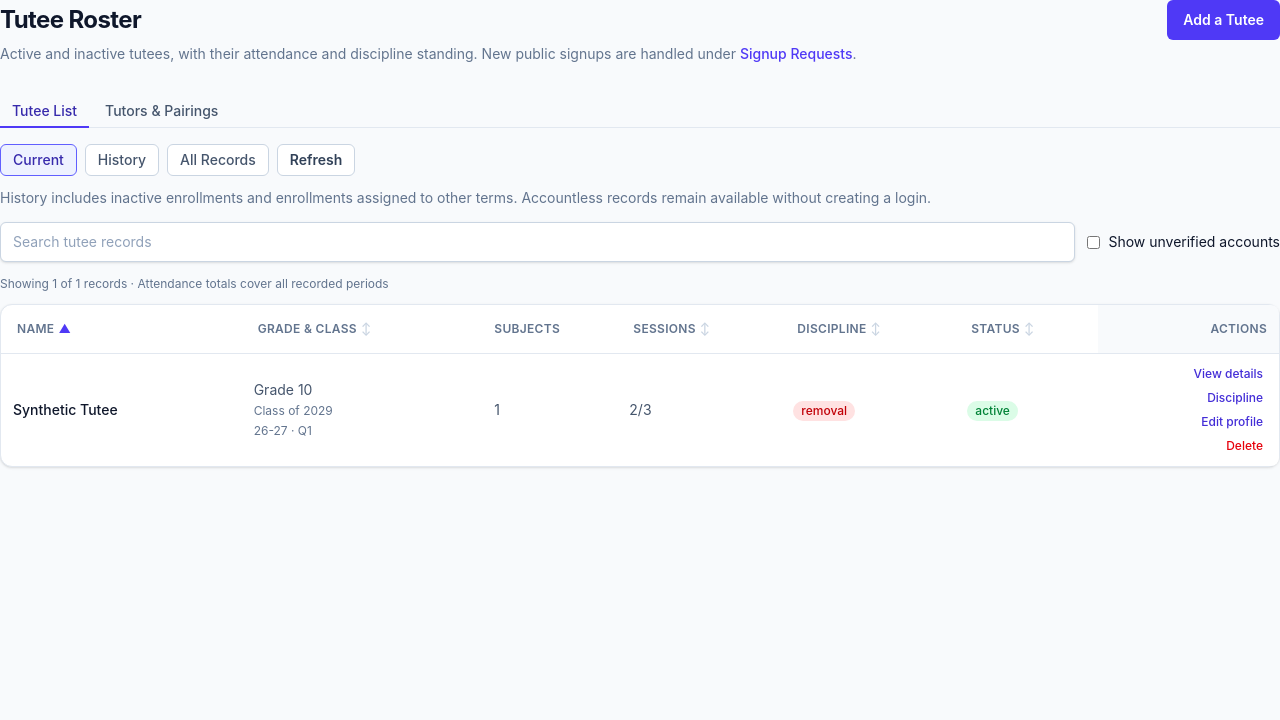
Scenario: people summary tables › puts pairing participants behind Details while preserving the unscheduled state
The width and height of the screenshot is (1280, 720).
Click the tab "Tutors & Pairings": (162, 112) [93,96,230,128]
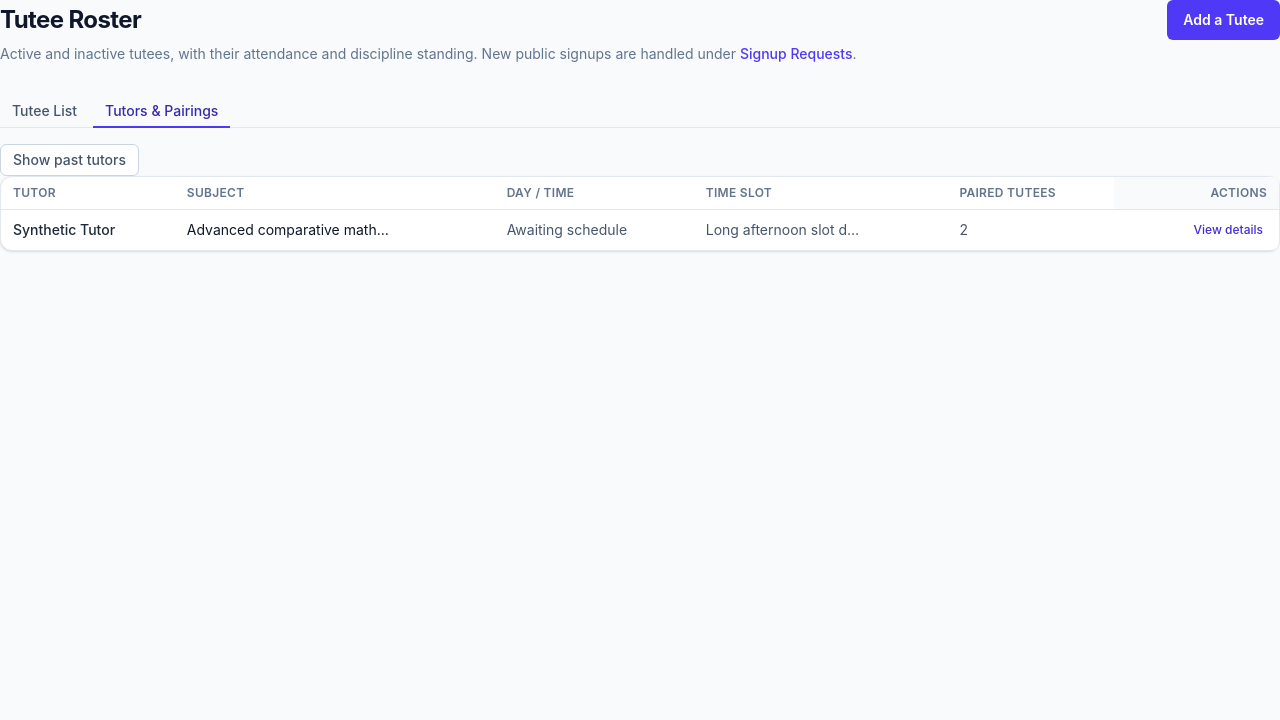
Expected: the column heading "Actions" is shown, [1114,177,1279,210]
Expected: the text "Awaiting schedule" is shown, [495,210,694,250]
Click the button "View details": (1228, 230) [1190,218,1267,242]
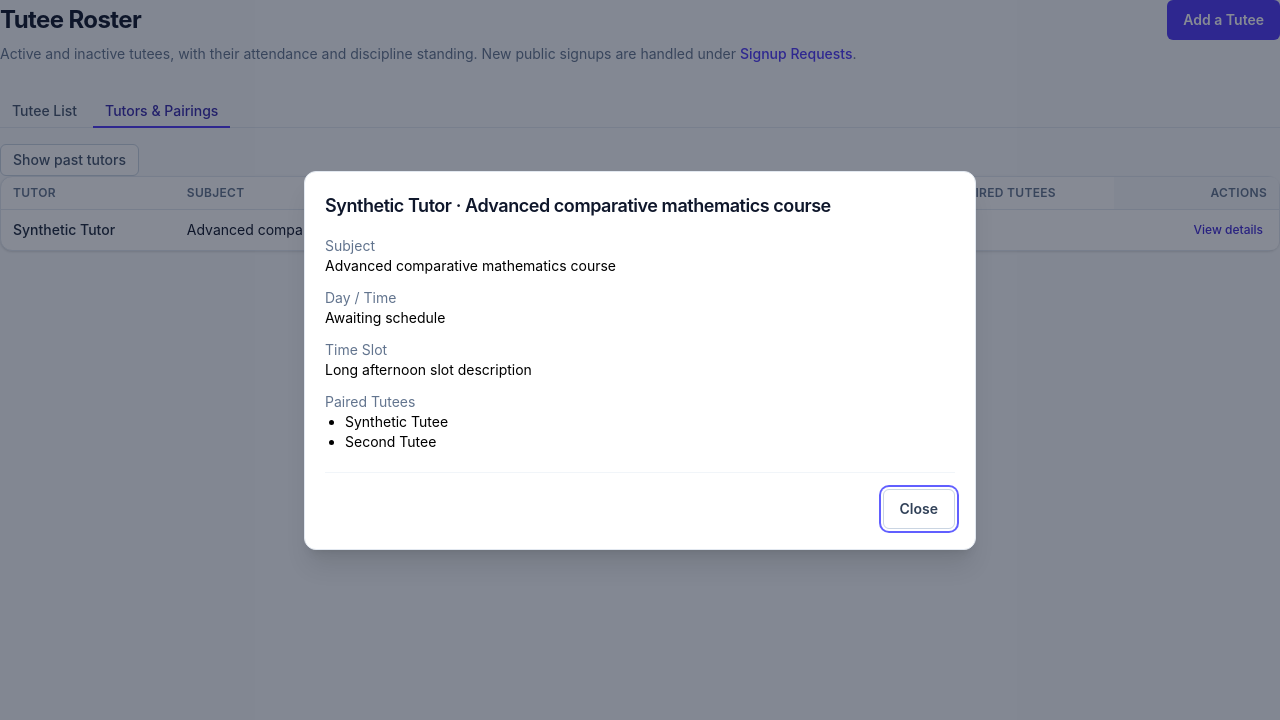
Expected: the list item "Second Tutee" is shown, [345,432,436,450]
Expected: the text "Long afternoon slot description" is shown, [325,360,532,378]
Expected: the text "Awaiting schedule" is shown, [325,308,445,326]
